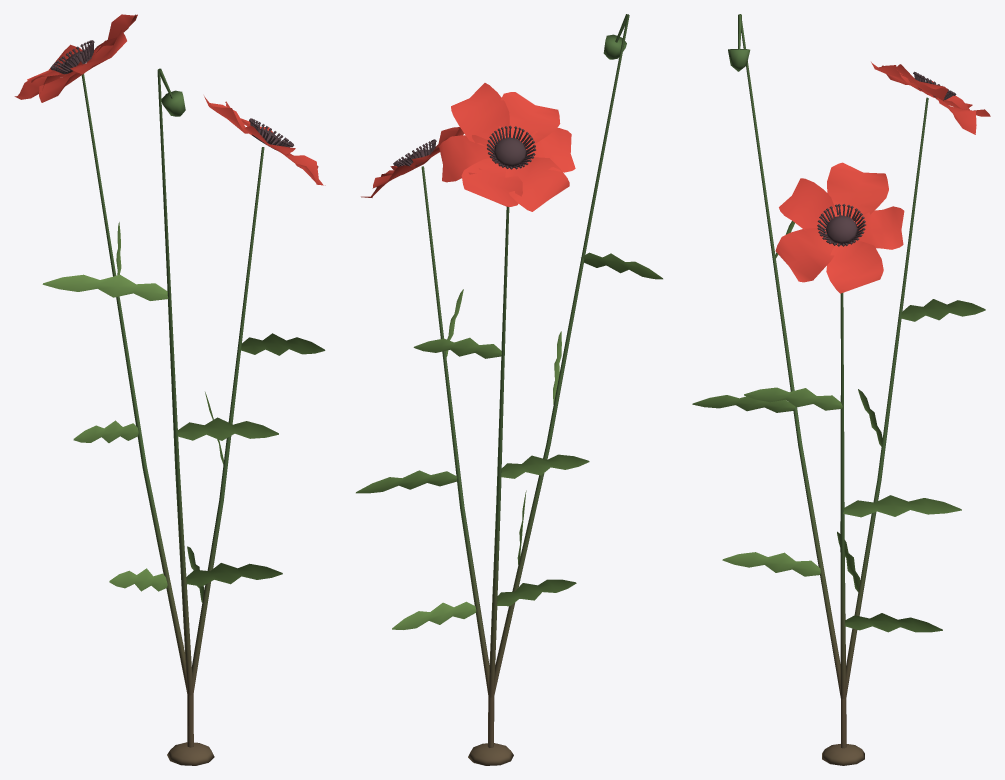
Rendered from Poppy.glb.
The picture shows the model from 3 angles, left to right: view 1: azimuth 30°, elevation 25°; view 2: azimuth 150°, elevation 25°; view 3: azimuth 270°, elevation 25°; orthographic projection. The views are drawn at different scales.
Visible parts, largest first — view 1: Plant; view 2: Plant; view 3: Plant.
Boxes of the visible parts, x1,y1,x2,y2 form: Plant: (14, 14, 325, 765); Plant: (356, 14, 662, 765); Plant: (692, 14, 990, 765).
Bounding box in the file's own units: 0.2759 × 0.6921 × 0.2666.
